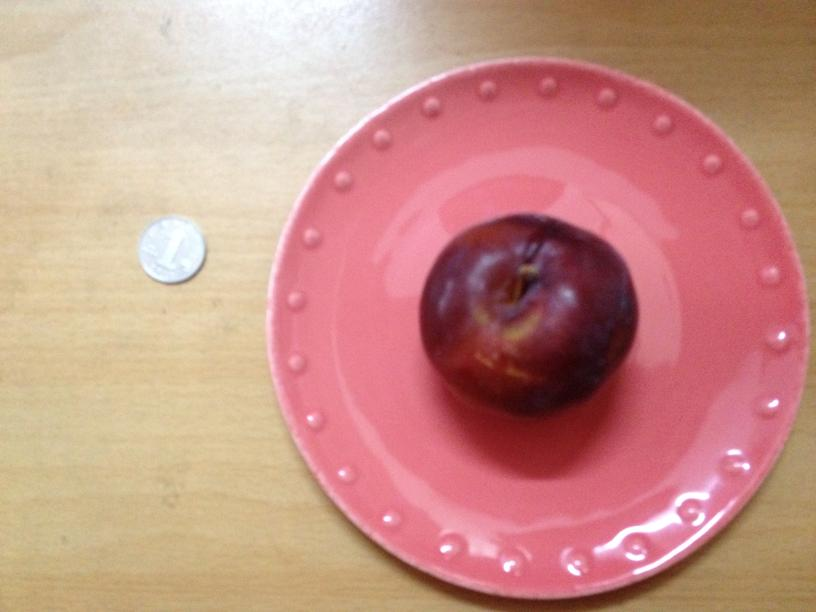coin: (136, 217, 205, 283)
plum: (422, 217, 636, 411)
